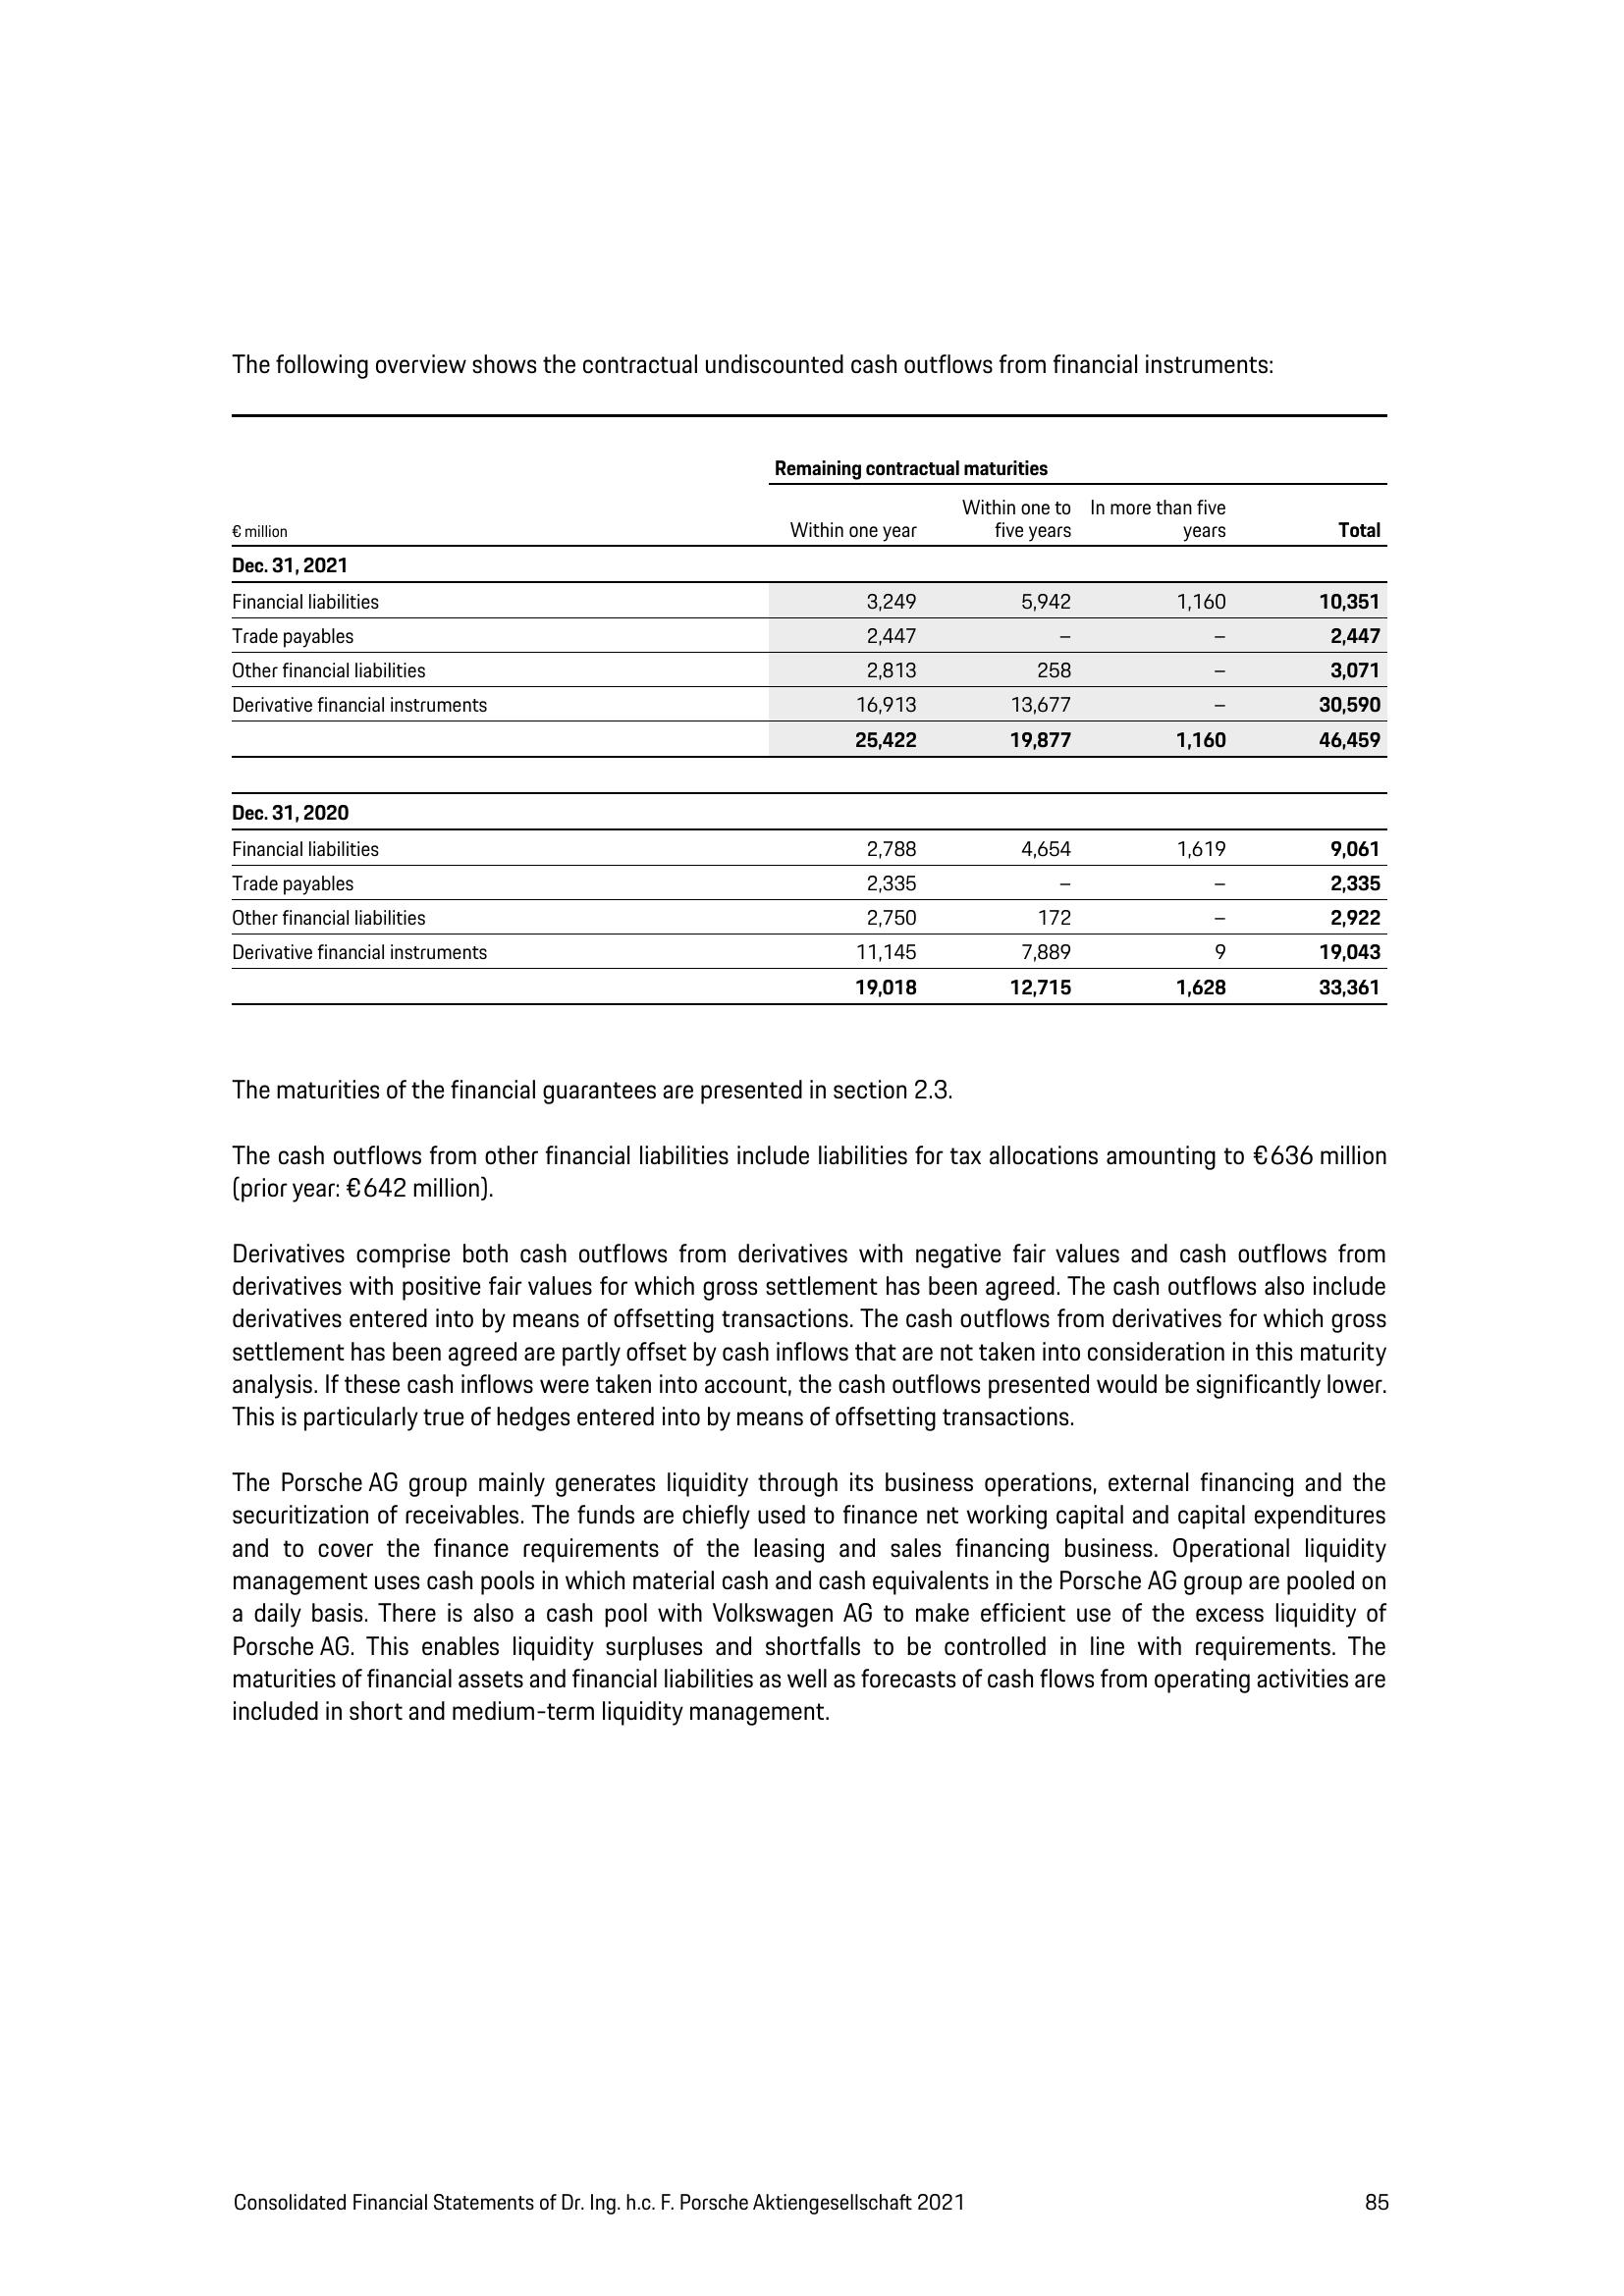Footer: (0, 2122, 1624, 2296)
Header: (0, 0, 1624, 228)
Table: (199, 411, 1417, 757), (172, 792, 1434, 1038)
